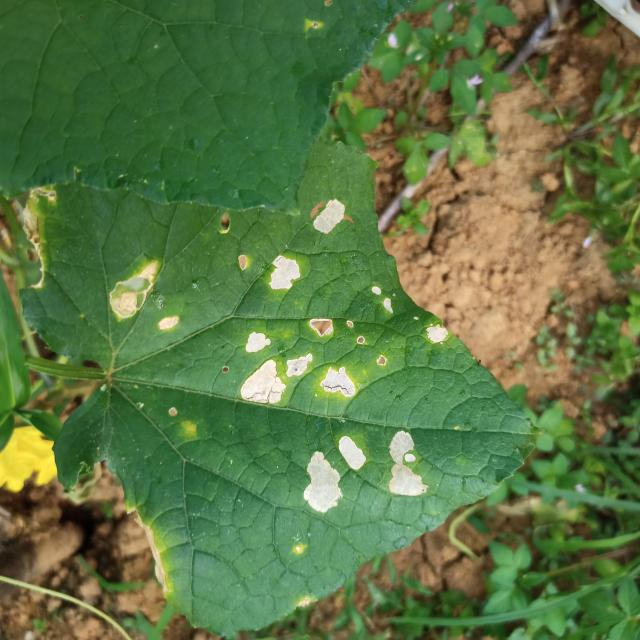disease_cucumber: (238, 316, 366, 405), (107, 260, 181, 333), (304, 435, 368, 514), (385, 428, 429, 498), (311, 197, 349, 236), (268, 254, 301, 293), (370, 283, 398, 317), (425, 322, 450, 346)
